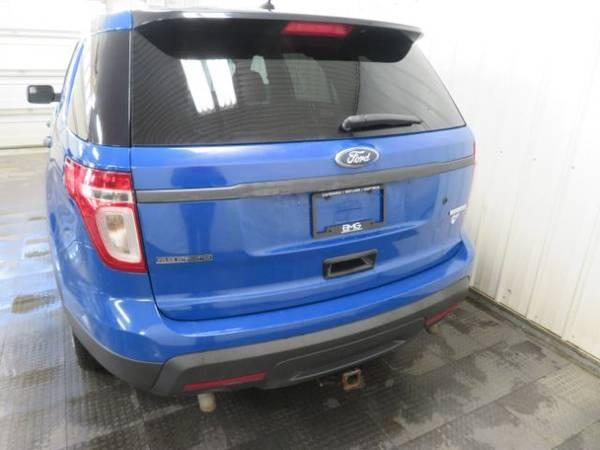Front_Left_Door: (41, 25, 131, 258)
Left_Taillight: (64, 155, 147, 274)
Rear_Bumper: (48, 233, 472, 392)
Rear_Windshield: (131, 15, 464, 149)
Right_Taillight: (135, 130, 478, 318)
